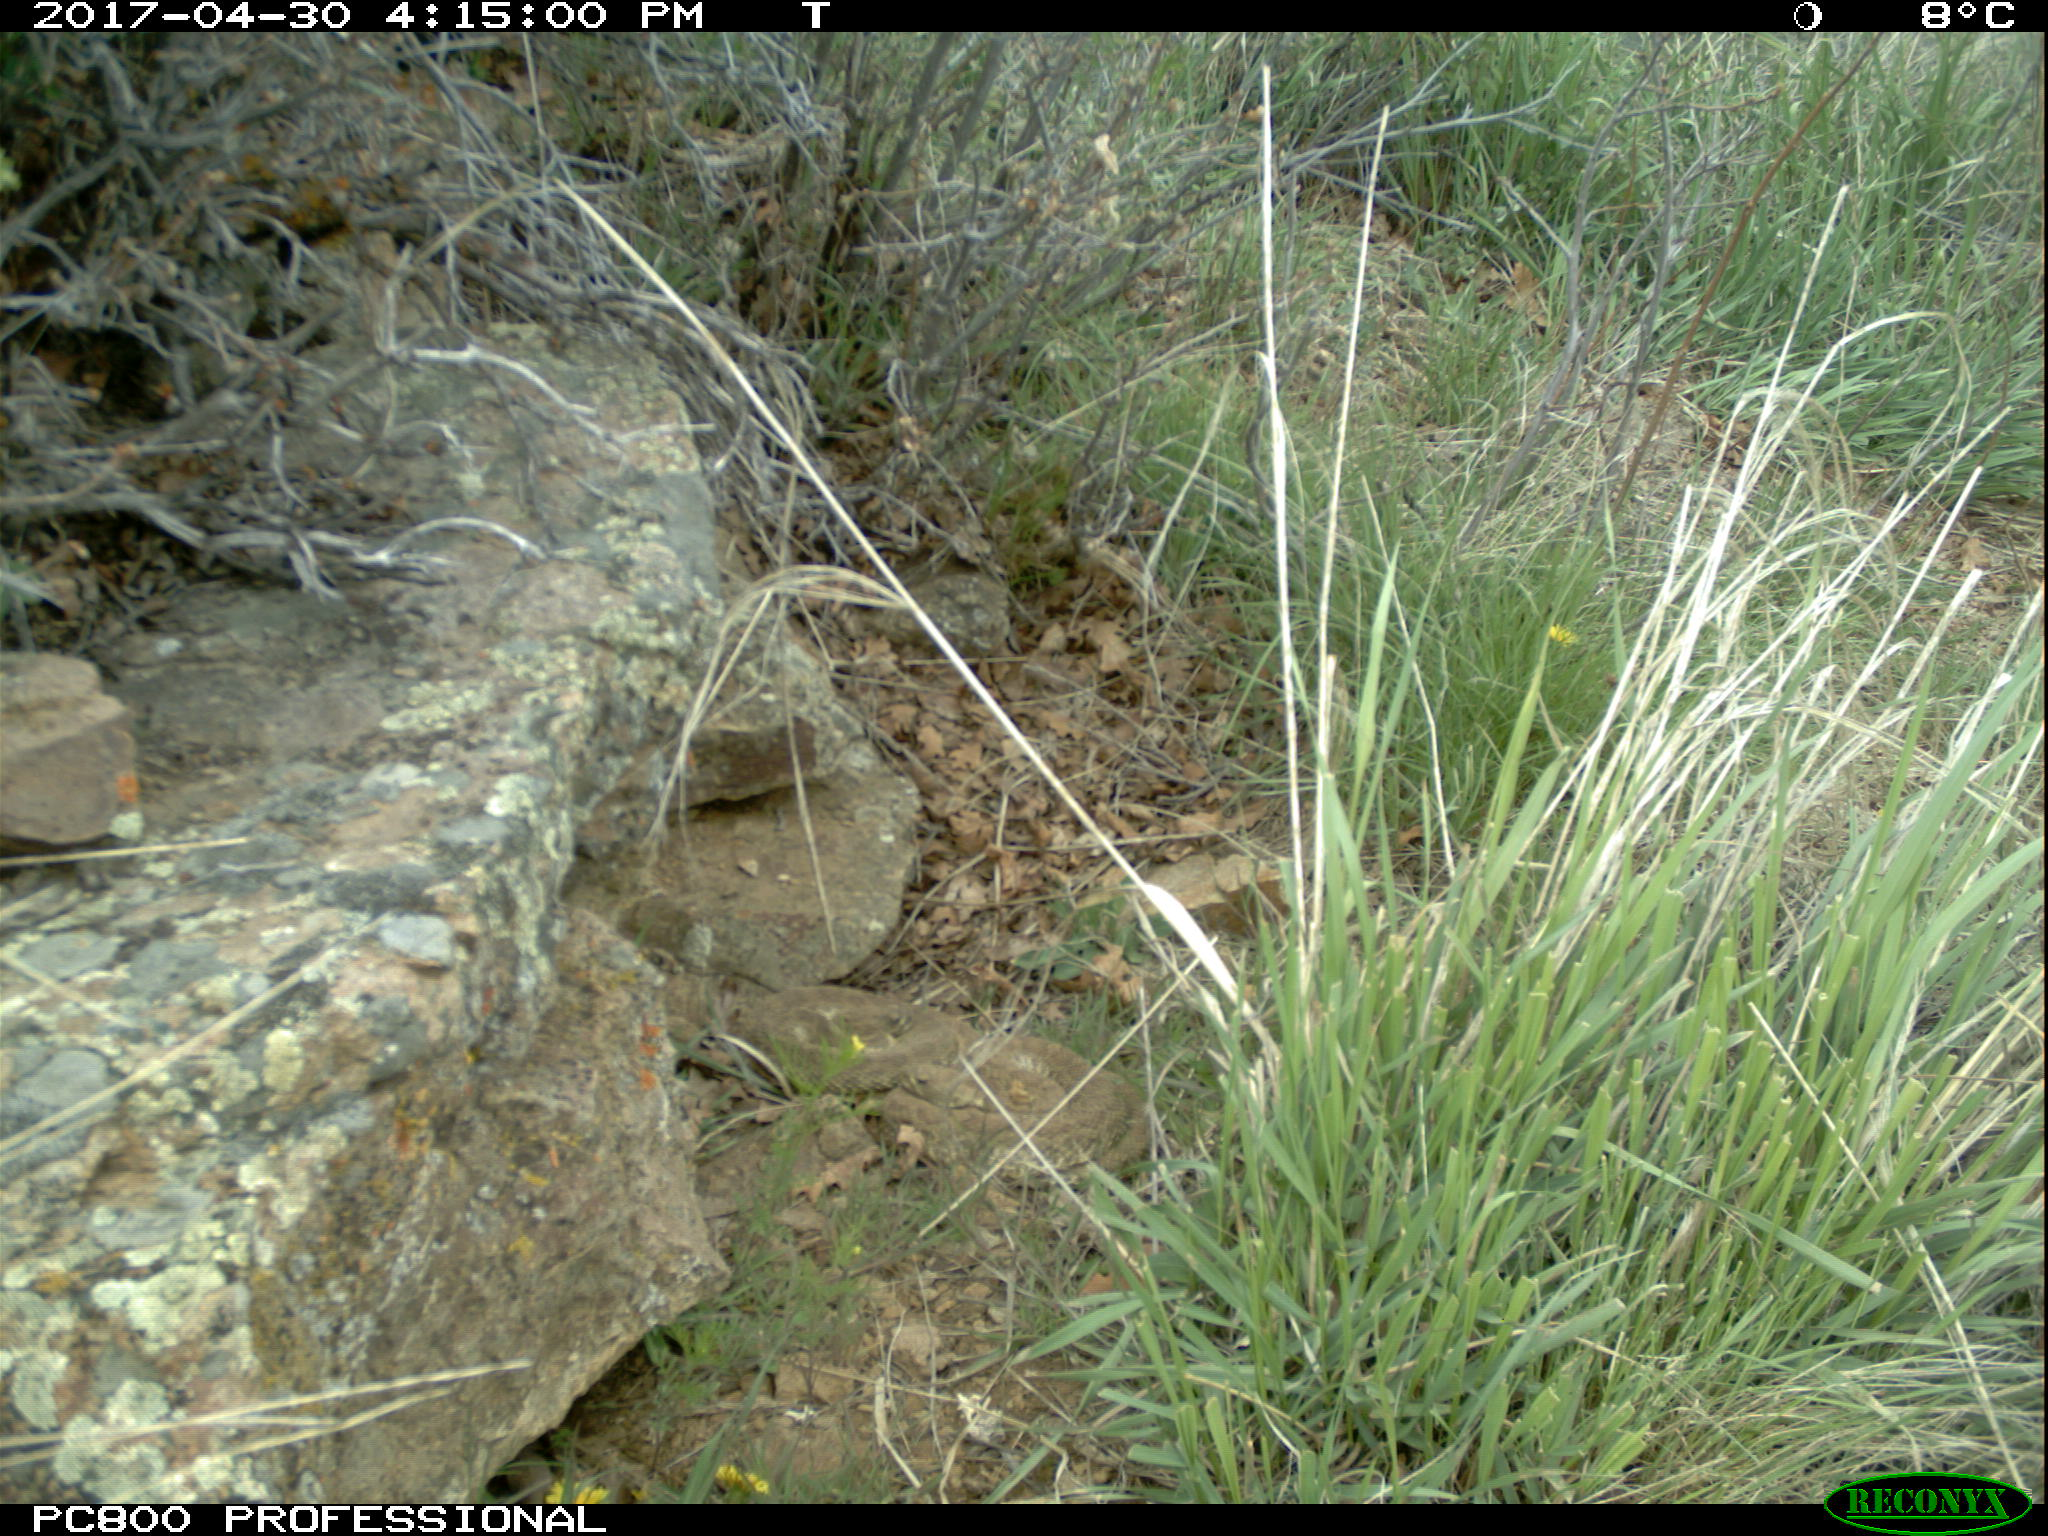snake: (734, 981, 1151, 1187)
